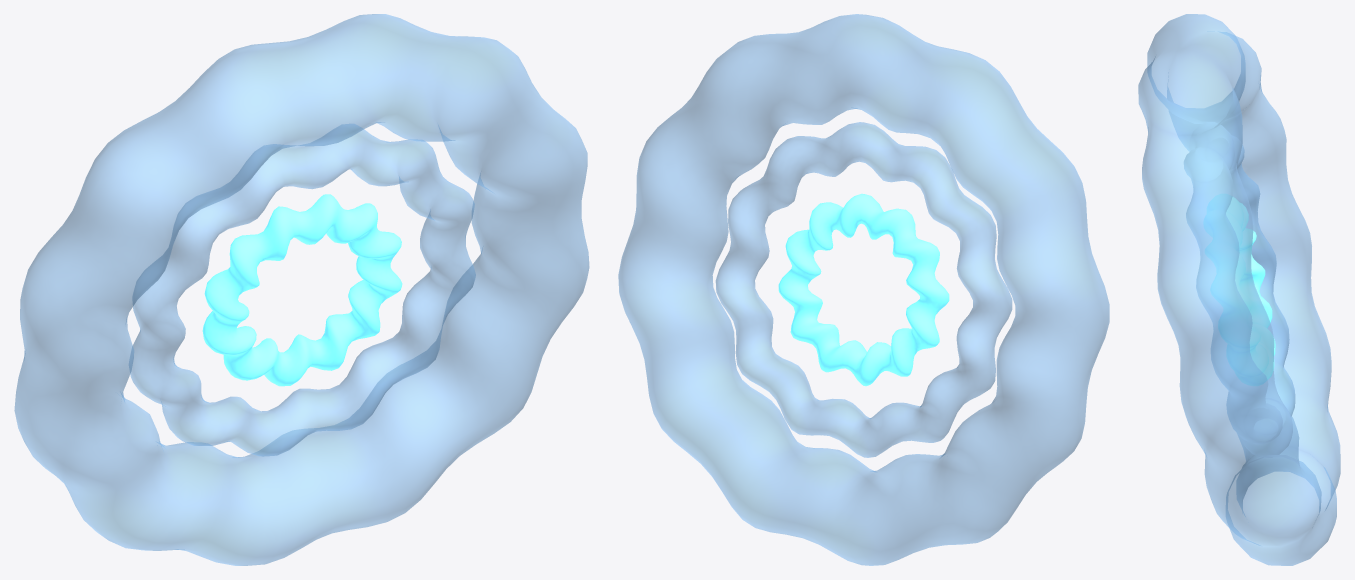
The model's file is music.glb.
3 views of the same model, side by side, from view 1: azimuth 30°, elevation 25°; view 2: azimuth 150°, elevation 25°; view 3: azimuth 270°, elevation 25° (orthographic). The views are drawn at different scales.
Parts seen in each view (by area): view 1: Resonance membrane 0, Resonance membrane 1, Resonance membrane 2; view 2: Resonance membrane 0, Resonance membrane 1, Resonance membrane 2; view 3: Resonance membrane 0, Resonance membrane 1, Resonance membrane 2.
Part boxes in pixels (<box>): Resonance membrane 0: <box>14,14,589,565</box>; Resonance membrane 1: <box>129,124,475,456</box>; Resonance membrane 2: <box>202,194,402,386</box>; Resonance membrane 0: <box>618,14,1109,565</box>; Resonance membrane 1: <box>715,122,1012,457</box>; Resonance membrane 2: <box>778,193,949,386</box>; Resonance membrane 0: <box>1138,14,1340,565</box>; Resonance membrane 1: <box>1184,122,1295,457</box>; Resonance membrane 2: <box>1204,194,1275,385</box>.
Bounding box in the file's own units: 2.78 × 2.72 × 1.01.
